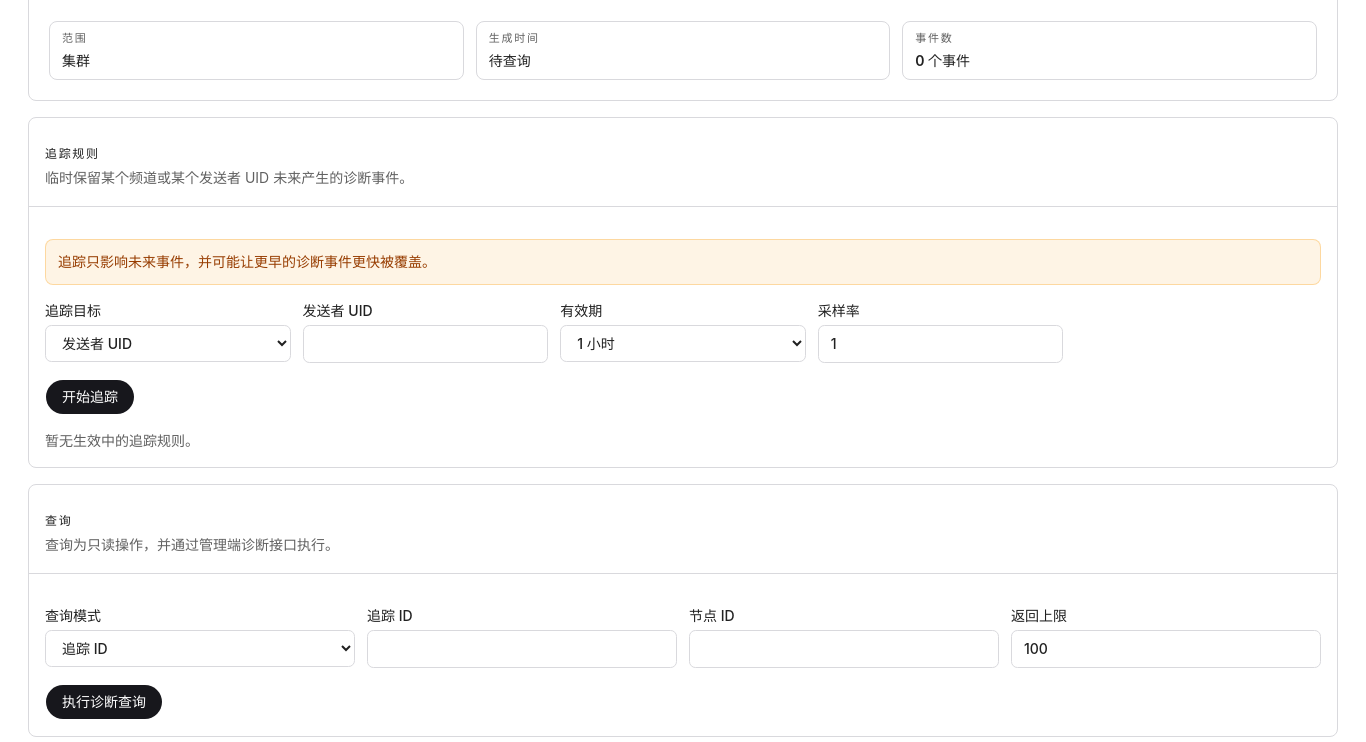
renders the diagnostics controls and empty states in Chinese
The width and height of the screenshot is (1366, 742).
(page scrolled)
Check: the dropdown labelled "查询模式" is shown, box x1=45 y1=630 x2=355 y2=666
Check: the text "暂无生效中的追踪规则。" is shown, box x1=45 y1=432 x2=199 y2=448
Click the button "执行诊断查询" at x=104, y=702, box x1=45 y1=684 x2=163 y2=720
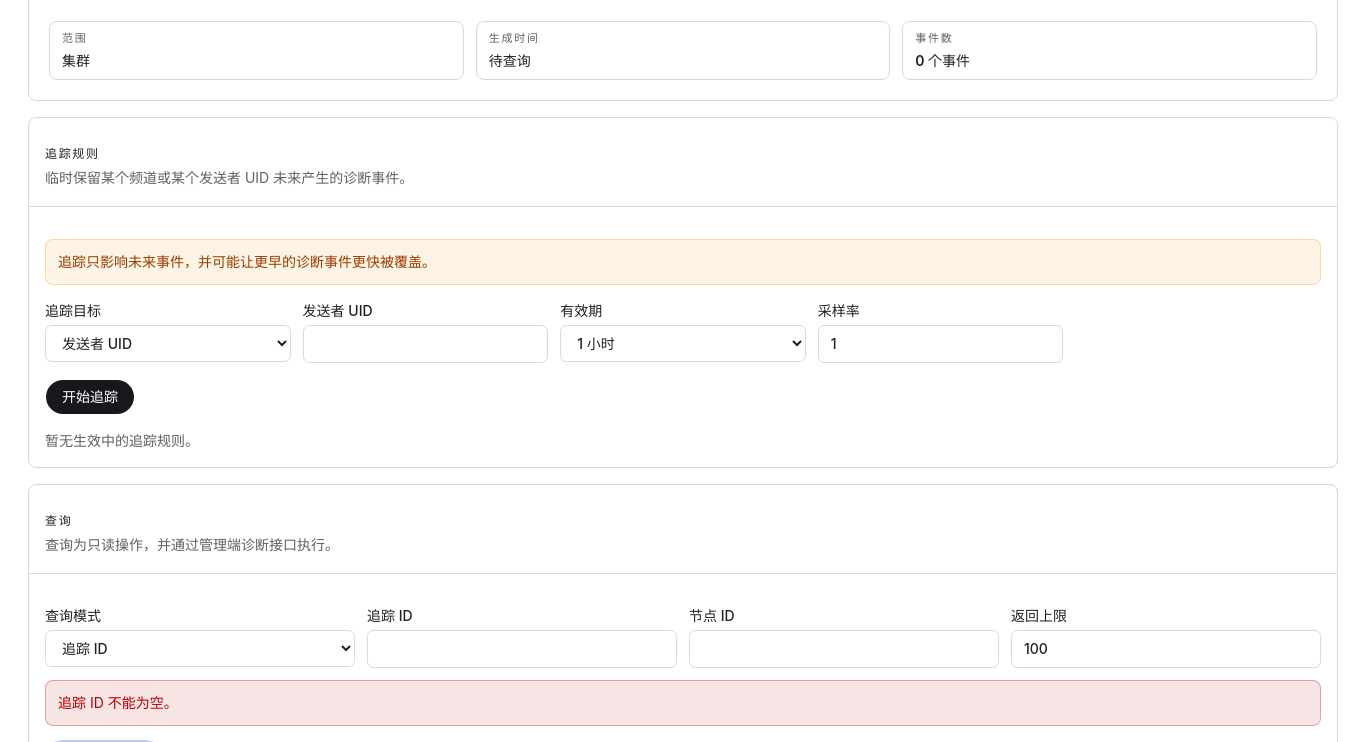
Check: the text "追踪 ID 不能为空。" is shown, box x1=58 y1=694 x2=178 y2=710
